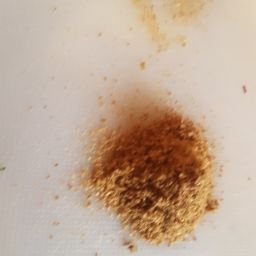Corriander powder: (17, 99, 240, 256), (75, 89, 240, 256)
